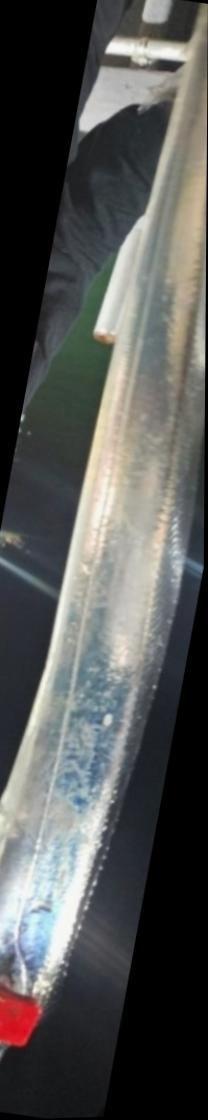fish: (0, 5, 208, 1063)
